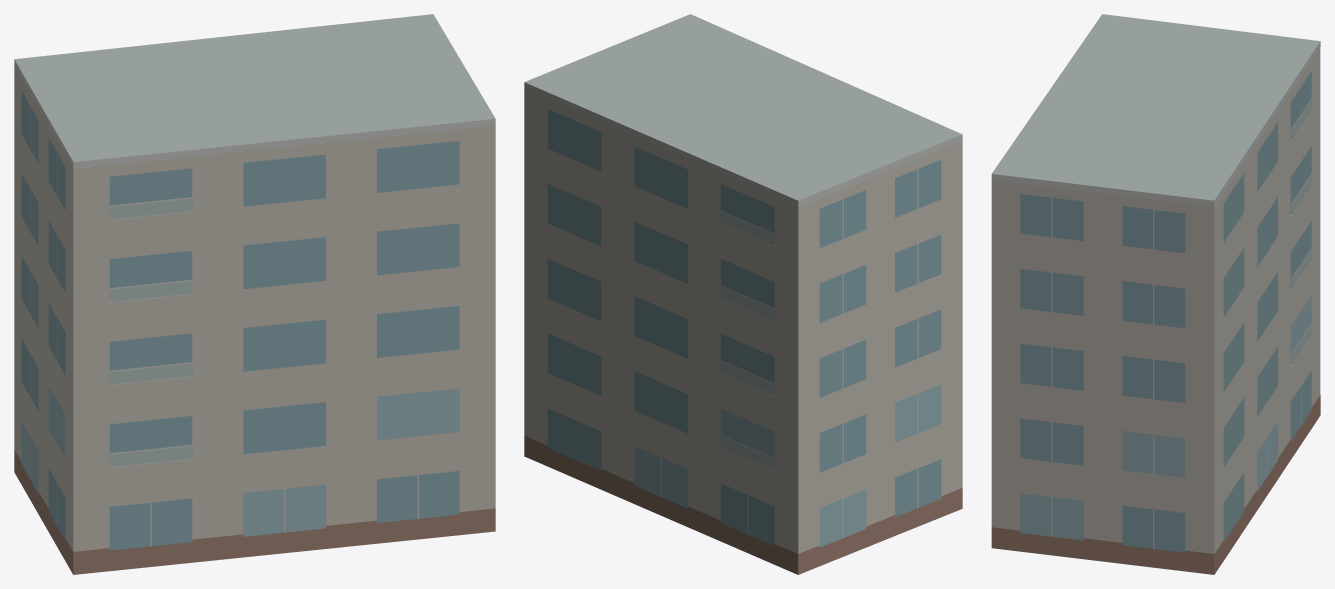
The model's file is survey-upis-32871972.glb.
3 renders of one model, left to right at view 1: azimuth 30°, elevation 25°; view 2: azimuth 150°, elevation 25°; view 3: azimuth 270°, elevation 25°, orthographic. The views are drawn at different scales.
Visible parts, largest first — view 1: survey-upis-32871972.tmp; view 2: survey-upis-32871972.tmp; view 3: survey-upis-32871972.tmp.
Boxes of the visible parts, box(x1,y1,x2,y2) form: survey-upis-32871972.tmp: box(14, 14, 495, 574); survey-upis-32871972.tmp: box(524, 14, 962, 574); survey-upis-32871972.tmp: box(991, 14, 1320, 574).
Bounding box in the file's own units: 15.62 × 14.6 × 11.64.
